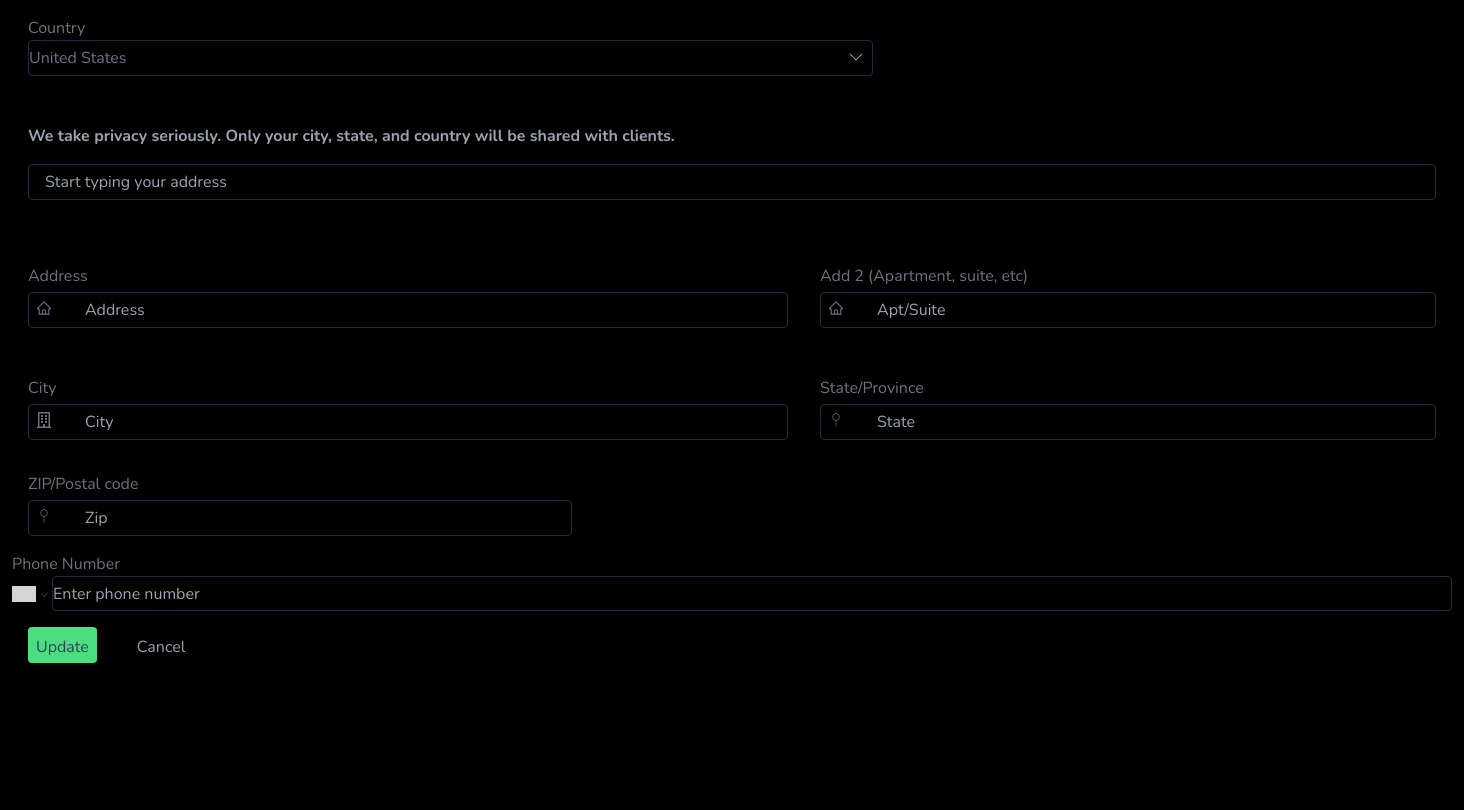
LocationForm › should display dropdown results when address results are fetched
The width and height of the screenshot is (1464, 810).
Type "123 Main St" into the field with placeholder "Start typing your address" at (732, 182), box [28,164,1436,200]
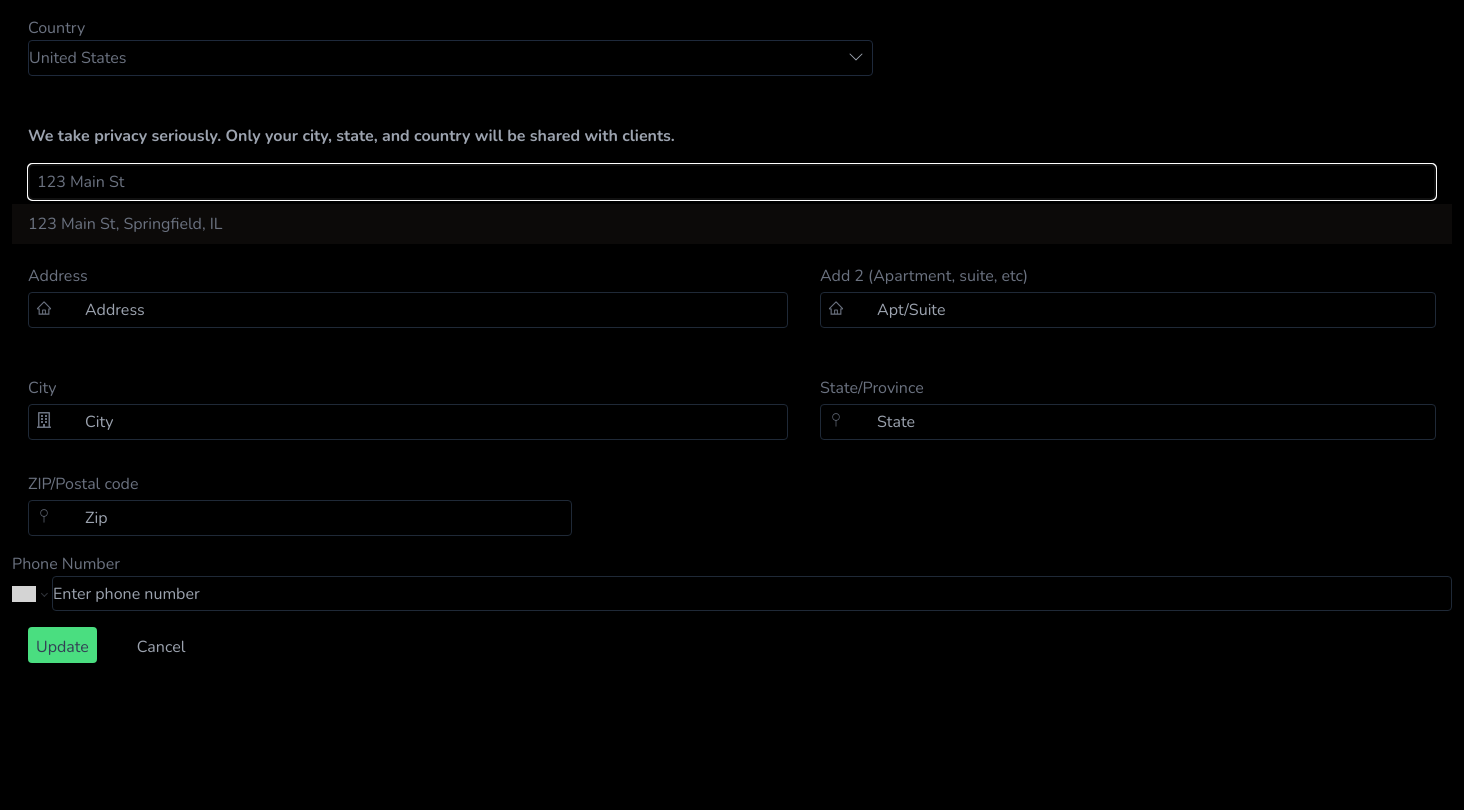
Now the list item "123 Main St, Springfield, IL" is shown, box [28,213,222,235]
